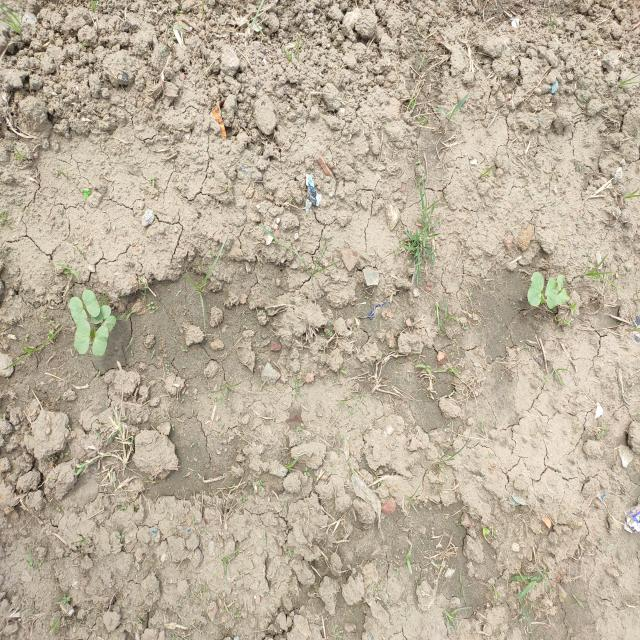seedling: (527, 272, 544, 307), (74, 320, 90, 355), (69, 296, 87, 325), (82, 290, 100, 317), (92, 327, 108, 356), (91, 305, 111, 324), (545, 278, 557, 309), (101, 315, 116, 332), (557, 288, 570, 306), (553, 275, 565, 294)
